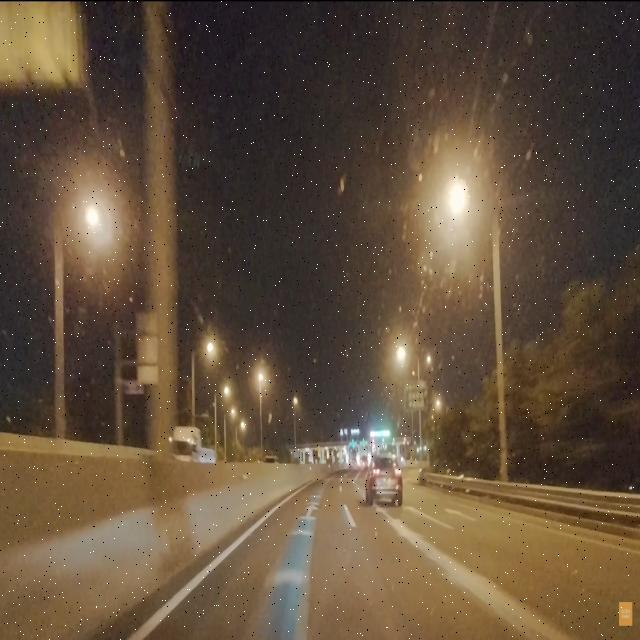forward: (245, 504, 358, 518)
